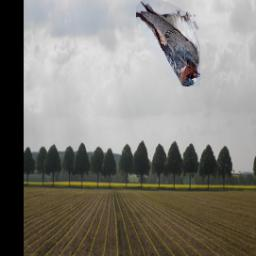Swallow: (136, 0, 200, 86)
